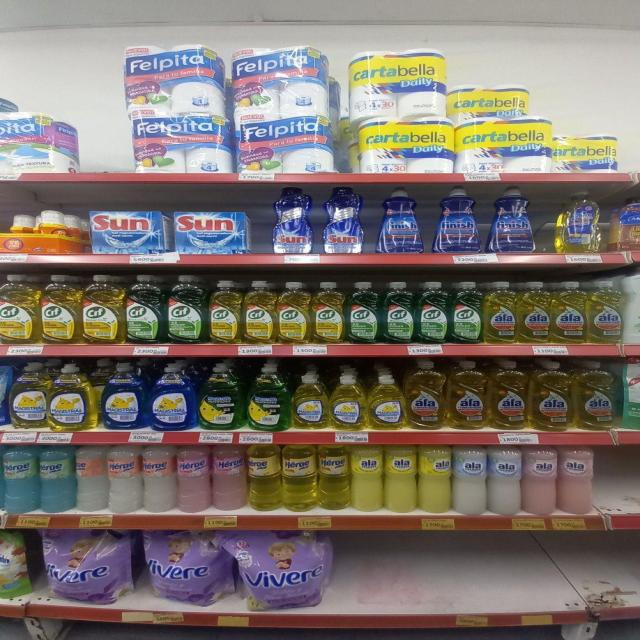ala_conc_amarillo: (574, 360, 618, 431), (529, 360, 572, 431), (488, 358, 528, 430), (447, 359, 487, 430), (406, 359, 445, 430), (588, 279, 623, 343), (552, 280, 586, 344), (483, 281, 517, 344), (518, 280, 550, 344)
ala_crem_amarillo: (418, 444, 452, 514), (384, 444, 417, 513), (352, 444, 383, 512)
ala_crem_blanco: (453, 444, 487, 515), (488, 445, 522, 515)
ala_crem_rosado: (558, 446, 597, 516), (522, 446, 558, 516)
cif_conc_bot_amarilla: (82, 274, 124, 344), (40, 274, 81, 344), (0, 274, 38, 344), (208, 279, 241, 344), (276, 281, 310, 344), (311, 280, 344, 344), (242, 280, 275, 344)
cif_conc_botella_verde: (166, 274, 206, 344), (126, 274, 164, 344), (415, 280, 449, 344), (346, 281, 380, 344), (449, 280, 482, 344), (382, 280, 414, 344)
heroe: (246, 444, 282, 512), (39, 444, 75, 512), (2, 444, 37, 513), (283, 444, 317, 512), (108, 444, 142, 512), (142, 444, 176, 512), (212, 444, 246, 511), (177, 444, 210, 512), (318, 444, 351, 511), (75, 446, 107, 512)
magistral_con_amarillo: (49, 364, 97, 431), (8, 362, 48, 429), (330, 373, 366, 430), (368, 374, 404, 430), (292, 374, 328, 429)
magistral_con_azul: (148, 362, 196, 430), (100, 362, 146, 430)
zorro: (552, 188, 607, 252), (611, 185, 640, 252)
